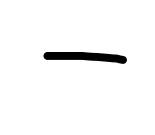minus: (43, 51, 127, 65)
